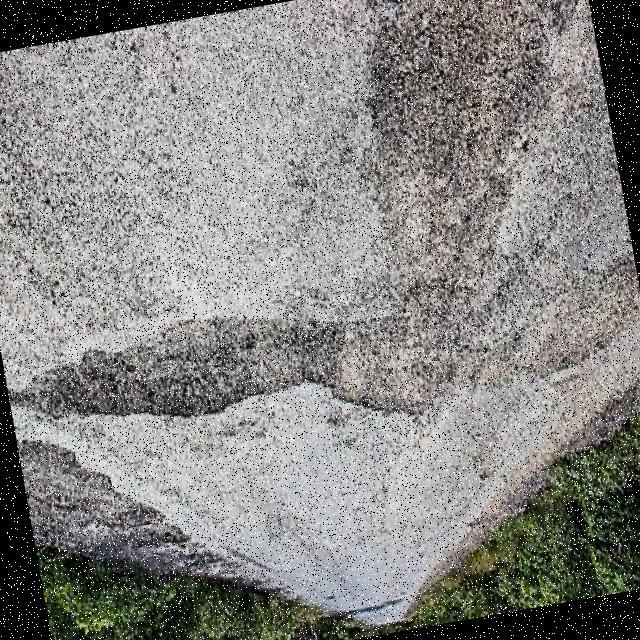Pothole: (5, 0, 632, 429), (13, 425, 233, 576)
